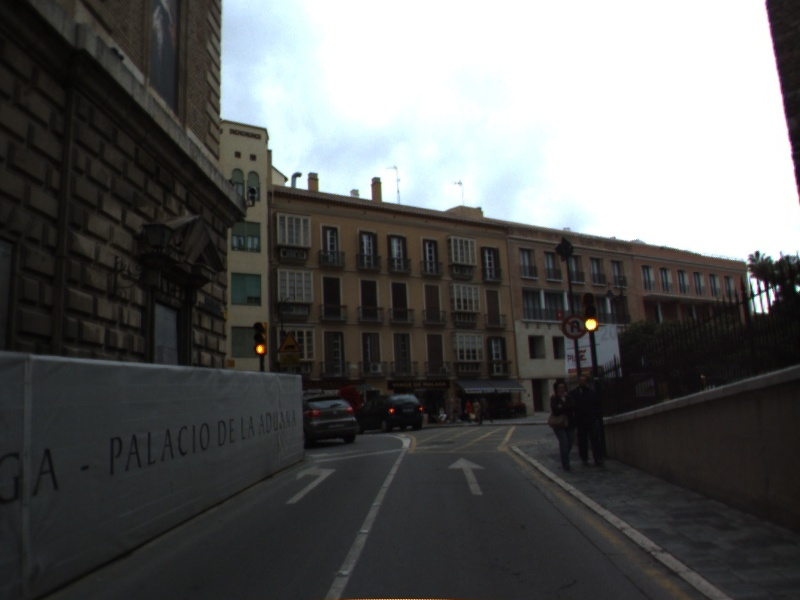LEFT: (283, 462, 339, 506)
STRAIGHT: (445, 454, 490, 497)
